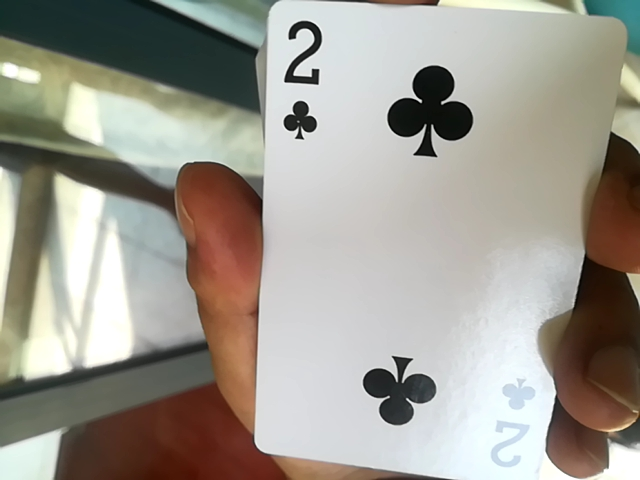mh 2: (238, 9, 620, 475)
